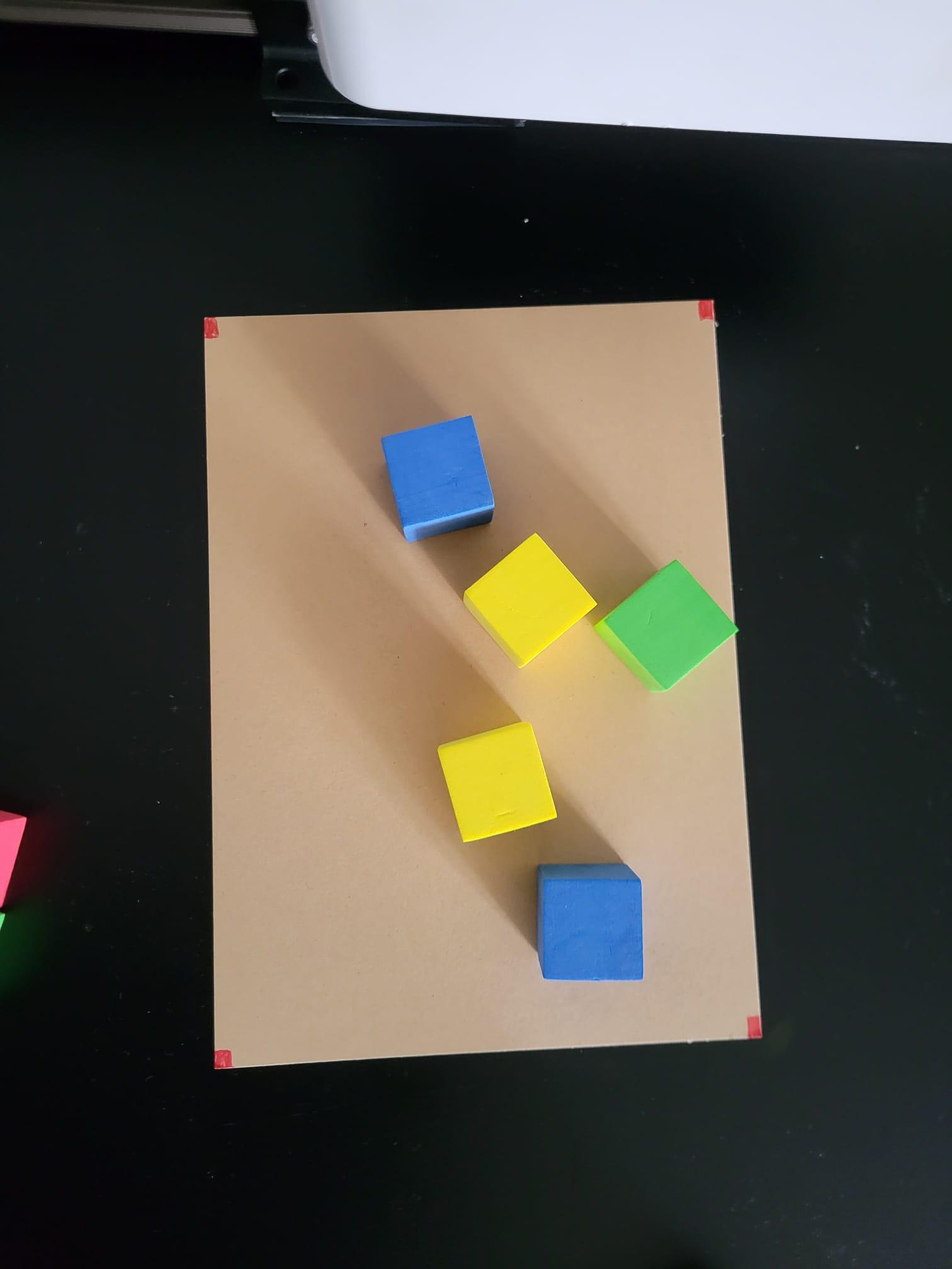cube: (466, 532, 595, 666), (600, 565, 735, 691), (439, 719, 560, 845), (381, 414, 499, 541), (530, 866, 644, 982)
